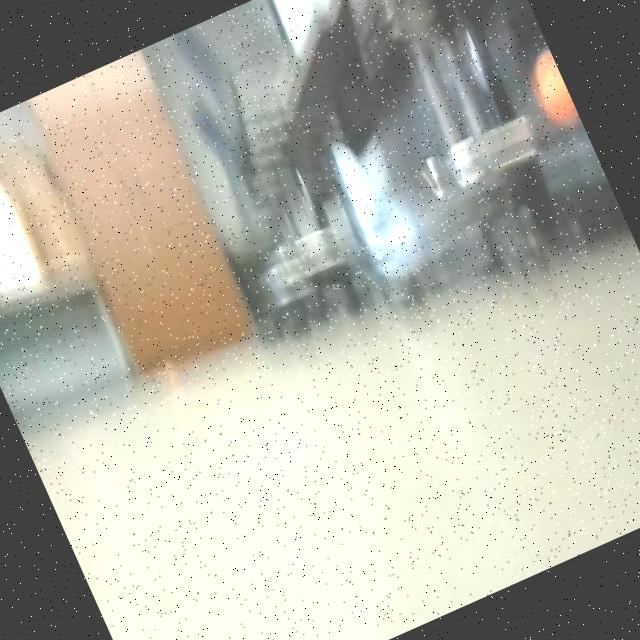ping-pong-ball: (514, 46, 582, 138)
